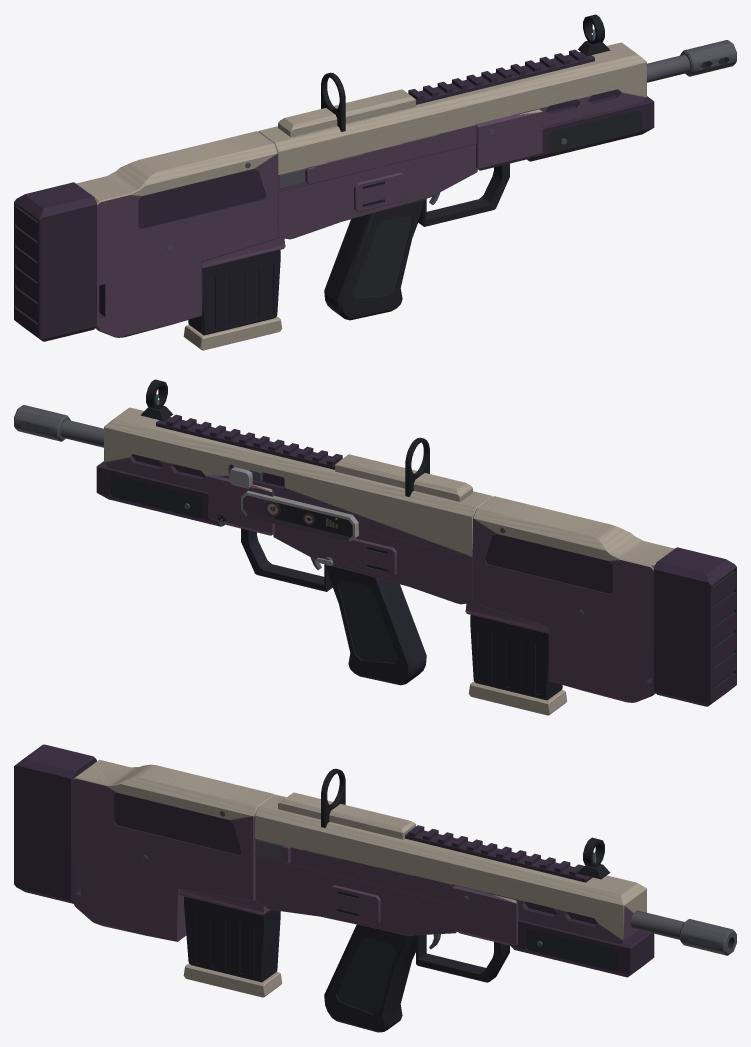
File: Bulldog_Playback_v01.fbx
3 renders of one model, top to bottom at view 1: azimuth 30°, elevation 25°; view 2: azimuth 150°, elevation 25°; view 3: azimuth 330°, elevation 25°, orthographic.
Visible parts, largest first — view 1: Bulldog_Stock, Bulldog_Receiver, Bulldog_Grip, Bulldog_Mag, Bulldog_Handguard, Bulldog_Barrel, Bulldog_Sights; view 2: Bulldog_Stock, Bulldog_Receiver, Bulldog_Grip, Bulldog_Mag, Bulldog_Handguard, Bulldog_Barrel, Playback_SmokedWindow, Bulldog_Sights, Playback_CassetteHousing, Playback_CassetteBed, Bulldog_ChargingHandle; view 3: Bulldog_Stock, Bulldog_Receiver, Bulldog_Grip, Bulldog_Mag, Bulldog_Handguard, Bulldog_Barrel, Bulldog_Sights.
Part boxes in pixels (box(x1,y1,x2,y2)): Bulldog_Stock: box(14, 131, 285, 341); Bulldog_Receiver: box(258, 42, 646, 239); Bulldog_Grip: box(324, 163, 509, 320); Bulldog_Mag: box(183, 250, 282, 350); Bulldog_Handguard: box(527, 96, 654, 161); Bulldog_Barrel: box(647, 40, 736, 82); Bulldog_Sights: box(321, 14, 610, 131); Bulldog_Stock: box(465, 496, 736, 706); Bulldog_Receiver: box(104, 407, 492, 604); Bulldog_Grip: box(241, 528, 426, 685); Bulldog_Mag: box(468, 615, 567, 715); Bulldog_Handguard: box(96, 461, 223, 526); Bulldog_Barrel: box(14, 405, 103, 447); Playback_SmokedWindow: box(244, 496, 352, 538); Bulldog_Sights: box(140, 379, 429, 496); Playback_CassetteHousing: box(241, 490, 358, 541); Playback_CassetteBed: box(273, 502, 352, 536); Bulldog_ChargingHandle: box(229, 465, 262, 488); Bulldog_Stock: box(14, 744, 274, 941); Bulldog_Receiver: box(255, 792, 646, 945); Bulldog_Grip: box(324, 924, 509, 1032); Bulldog_Mag: box(183, 896, 282, 997); Bulldog_Handguard: box(509, 920, 654, 977); Bulldog_Barrel: box(631, 910, 736, 955); Bulldog_Sights: box(321, 768, 610, 879).
Size of the model in its own units: 290 by 95.96 by 23.
16 materials, 13 textured.
